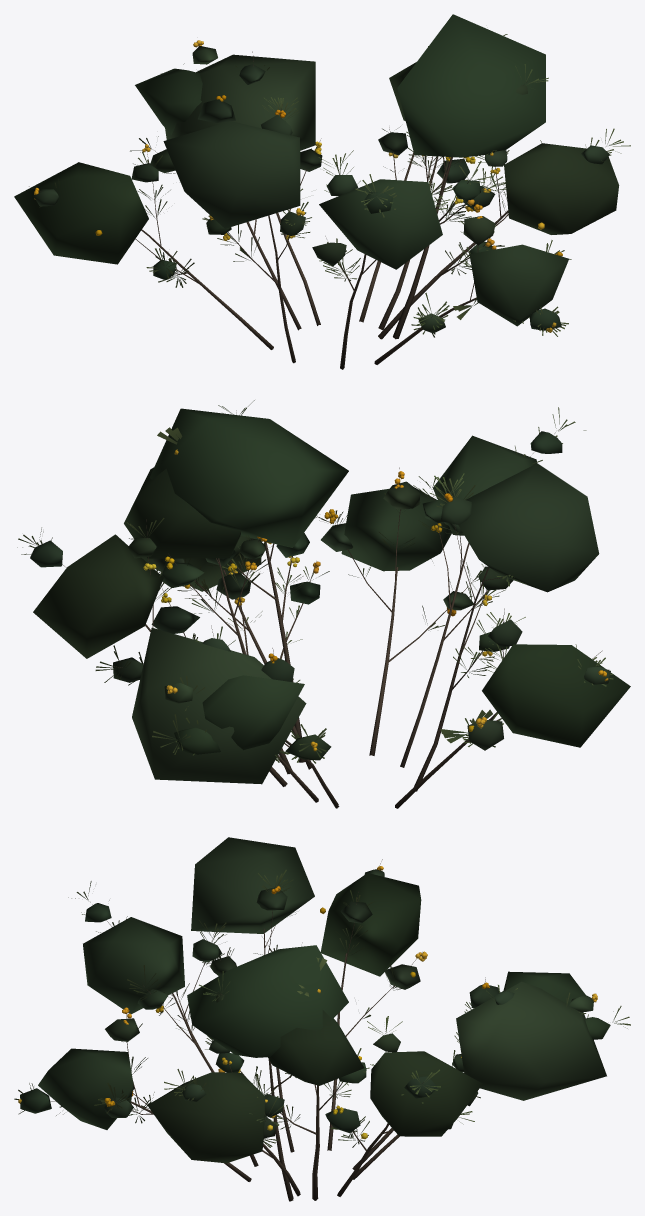
Rendered from gorse.glb.
The picture shows the model from 3 angles, top to bottom: view 1: azimuth 30°, elevation 25°; view 2: azimuth 150°, elevation 25°; view 3: azimuth 270°, elevation 25°; orthographic projection. The views are drawn at different scales.
Visible parts, largest first — view 1: gorse-lo, gorse; view 2: gorse-lo, gorse; view 3: gorse-lo, gorse.
Boxes of the visible parts, bbox=[...] form: gorse-lo: bbox=[14, 14, 619, 369]; gorse: bbox=[29, 40, 630, 369]; gorse-lo: bbox=[33, 408, 630, 808]; gorse: bbox=[17, 400, 613, 808]; gorse-lo: bbox=[38, 837, 606, 1201]; gorse: bbox=[14, 859, 630, 1201].
Bounding box in the file's own units: 3.2 × 1.8 × 3.47.
